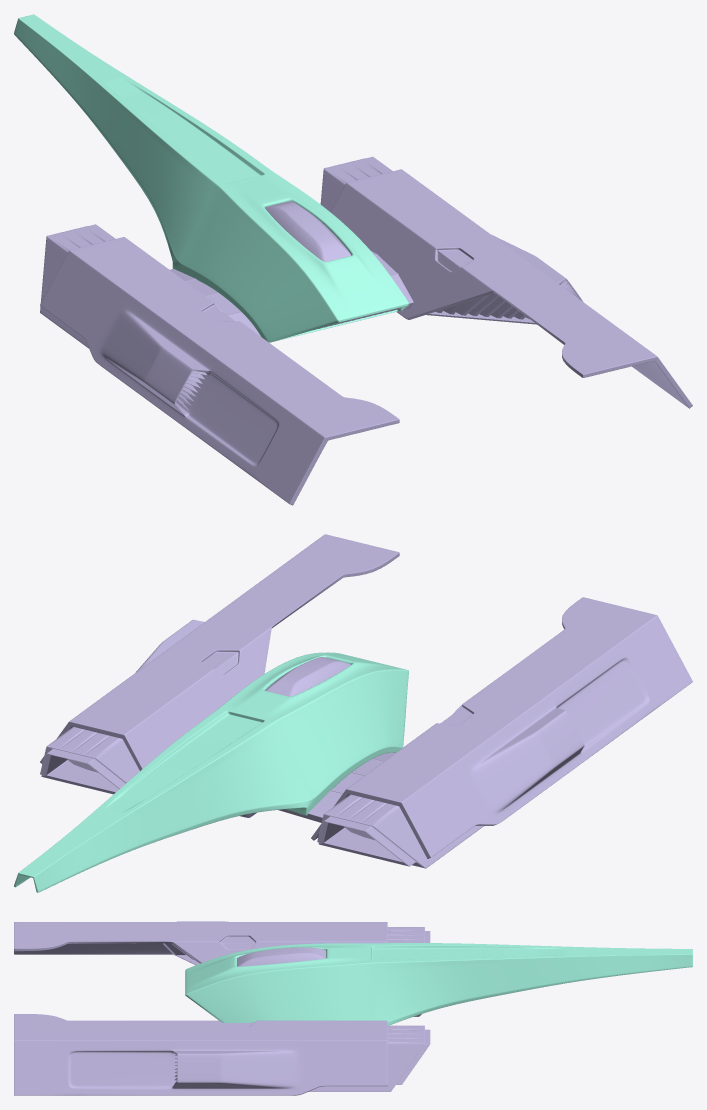
The model's file is scifiboat1.fbx.
3 views of the same model, one above another, from view 1: azimuth 30°, elevation 25°; view 2: azimuth 150°, elevation 25°; view 3: azimuth 270°, elevation 25° (orthographic). The views are drawn at different scales.
Parts seen in each view (by area): view 1: group1 engineGeo_L transform2 transform8 engineGeo_L, group1 podGeo_R podGeo_L, group1 engineThrusterGeo_L transform1 transform7 engineThrus, group1 windowGeo_L windowGeo_R, group1 pPlane1 pPlane2, group1 engineFrontVentGeo_L transform6 transform12 engineFro; view 2: group1 engineGeo_L transform2 transform8 engineGeo_L, group1 podGeo_R podGeo_L, group1 engineThrusterGeo_L transform1 transform7 engineThrus, group1 windowGeo_L windowGeo_R, group1 pPlane1 pPlane2; view 3: group1 engineGeo_L transform2 transform8 engineGeo_L, group1 podGeo_R podGeo_L, group1 engineThrusterGeo_L transform1 transform7 engineThrus, group1 windowGeo_L windowGeo_R.
Part boxes in pixels (bbox=[...]): group1 engineGeo_L transform2 transform8 engineGeo_L: bbox=[40, 169, 692, 505]; group1 podGeo_R podGeo_L: bbox=[14, 14, 408, 342]; group1 engineThrusterGeo_L transform1 transform7 engineThrus: bbox=[40, 156, 536, 348]; group1 windowGeo_L windowGeo_R: bbox=[265, 201, 351, 261]; group1 pPlane1 pPlane2: bbox=[170, 250, 413, 336]; group1 engineFrontVentGeo_L transform6 transform12 engineFro: bbox=[436, 293, 529, 319]; group1 engineGeo_L transform2 transform8 engineGeo_L: bbox=[40, 534, 692, 858]; group1 podGeo_R podGeo_L: bbox=[14, 652, 408, 892]; group1 engineThrusterGeo_L transform1 transform7 engineThrus: bbox=[40, 727, 483, 868]; group1 windowGeo_L windowGeo_R: bbox=[265, 657, 350, 696]; group1 pPlane1 pPlane2: bbox=[278, 752, 395, 822]; group1 engineGeo_L transform2 transform8 engineGeo_L: bbox=[14, 921, 387, 1095]; group1 podGeo_R podGeo_L: bbox=[185, 943, 692, 1025]; group1 engineThrusterGeo_L transform1 transform7 engineThrus: bbox=[163, 927, 430, 1091]; group1 windowGeo_L windowGeo_R: bbox=[237, 947, 326, 966].
Bounding box in the file's own units: 64541 × 15437 × 126840.
